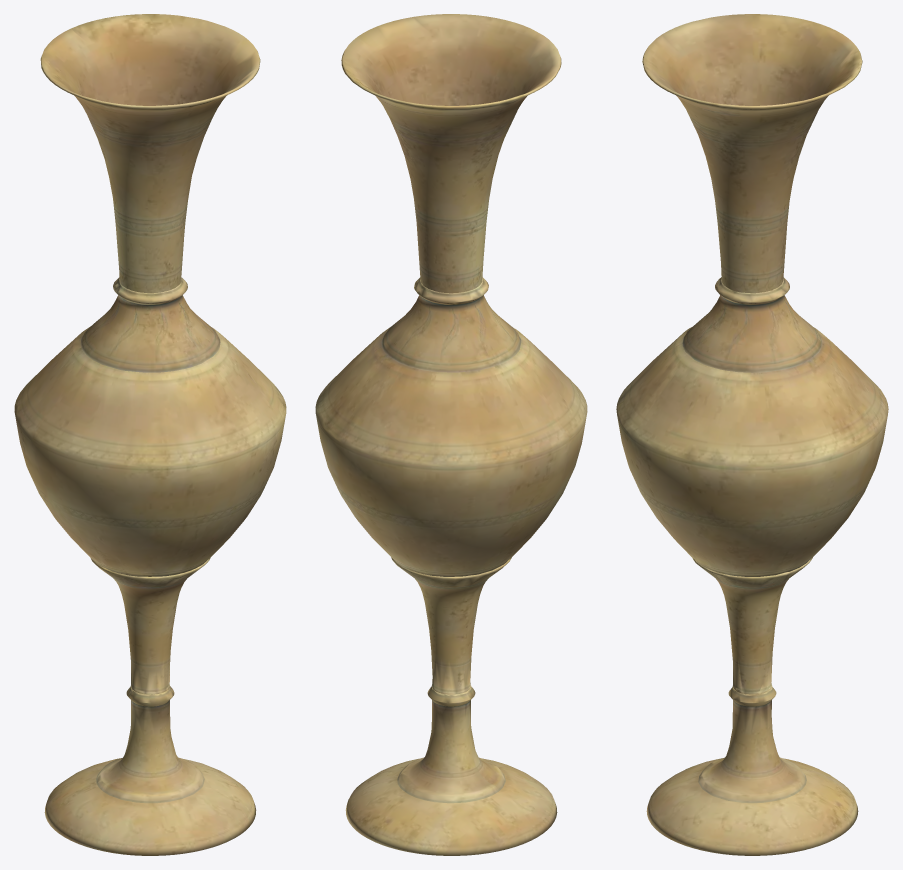
The model's file is brass_vase_01.glb.
The picture shows the model from 3 angles, left to right: view 1: azimuth 30°, elevation 25°; view 2: azimuth 150°, elevation 25°; view 3: azimuth 270°, elevation 25°; orthographic projection.
Visible parts, largest first — view 1: brass_vase_01; view 2: brass_vase_01; view 3: brass_vase_01.
Boxes of the visible parts, x1,y1,x2,y2 form: brass_vase_01: [14, 14, 286, 855]; brass_vase_01: [315, 14, 587, 855]; brass_vase_01: [616, 14, 888, 855].
Bounding box in the file's own units: 0.2273 × 0.6925 × 0.2273.
Materials: 1 (1 with a texture image).
